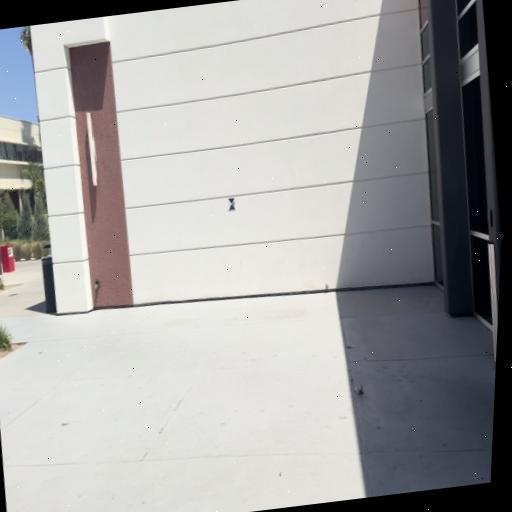target0: (227, 198, 237, 212)
